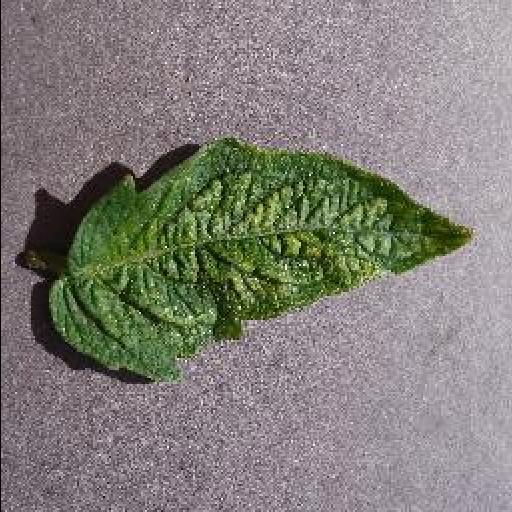disease_tomato: (48, 138, 474, 380)
